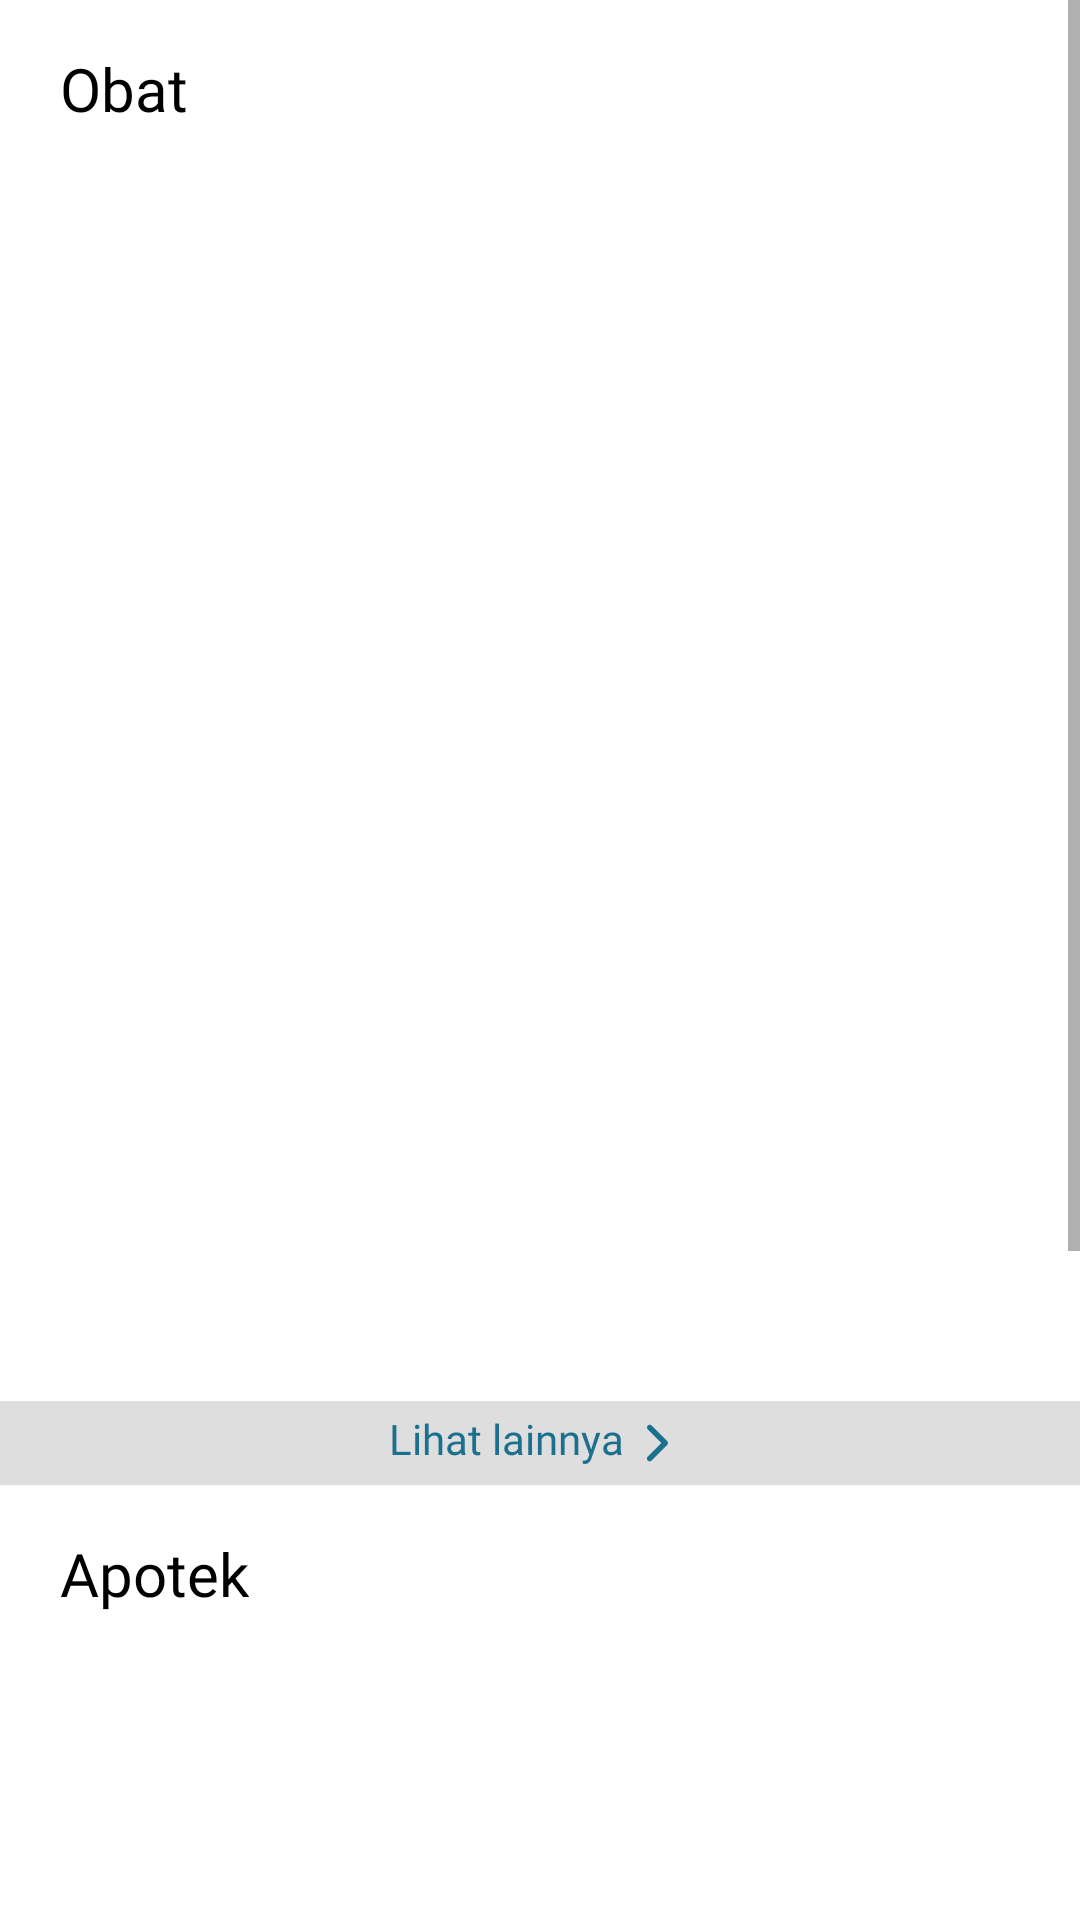

Point at icon controls on the screen. Image size 1080×1920, points as (x,y).
arrow right: (657,1443)
